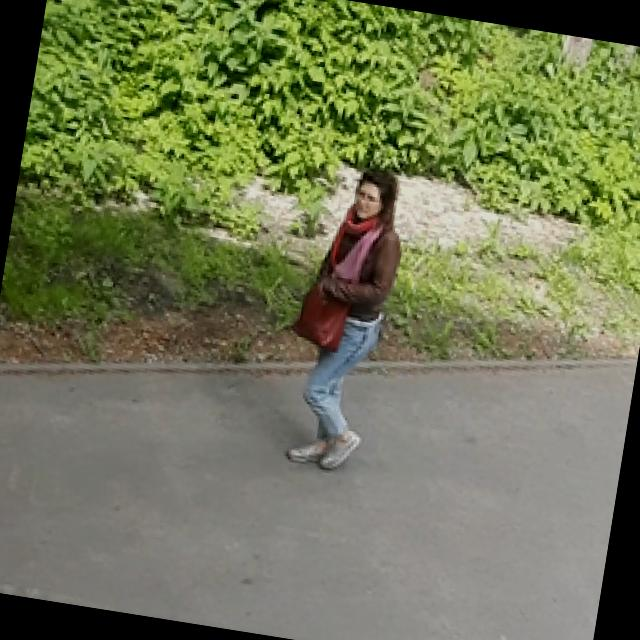person: (277, 162, 414, 476)
